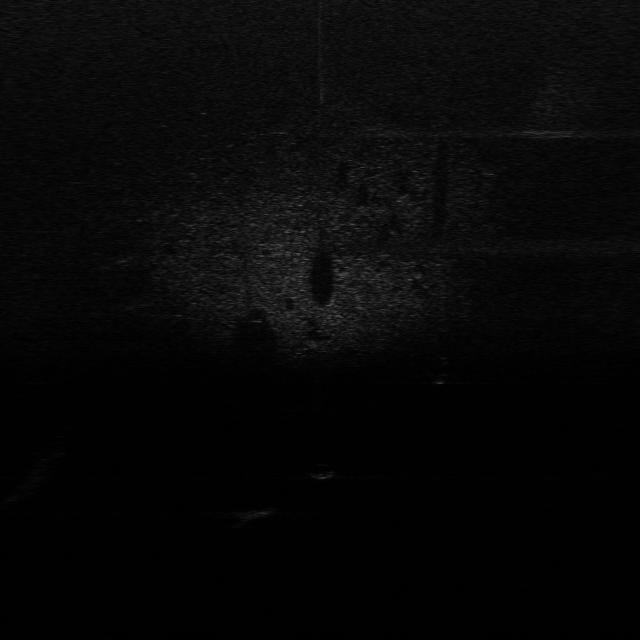ball: (312, 463, 337, 481)
square cage: (230, 501, 280, 523)
tyre: (431, 354, 453, 389)
